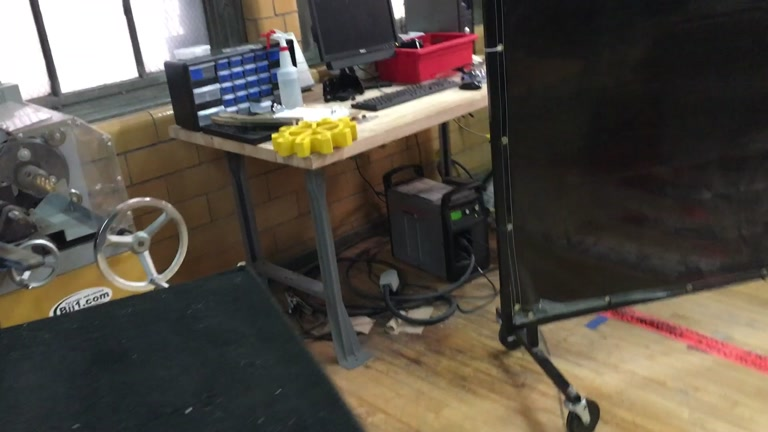gear: (270, 115, 358, 159)
